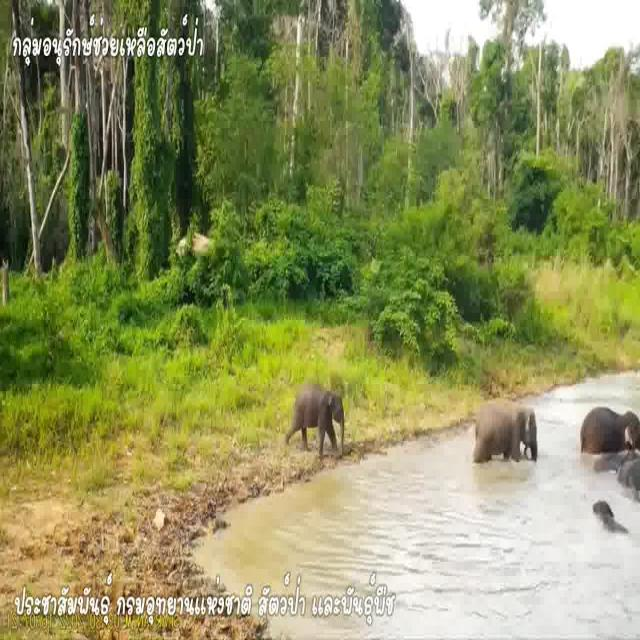Elephant: (472, 394, 541, 468), (293, 382, 348, 446), (582, 396, 635, 454), (587, 492, 629, 540)
